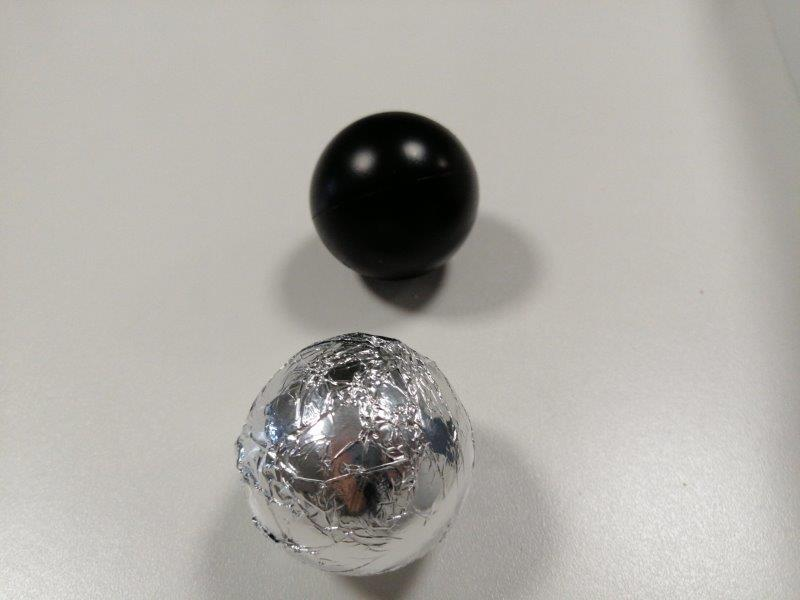bianca: (235, 333, 477, 576)
nera: (309, 112, 480, 280)
